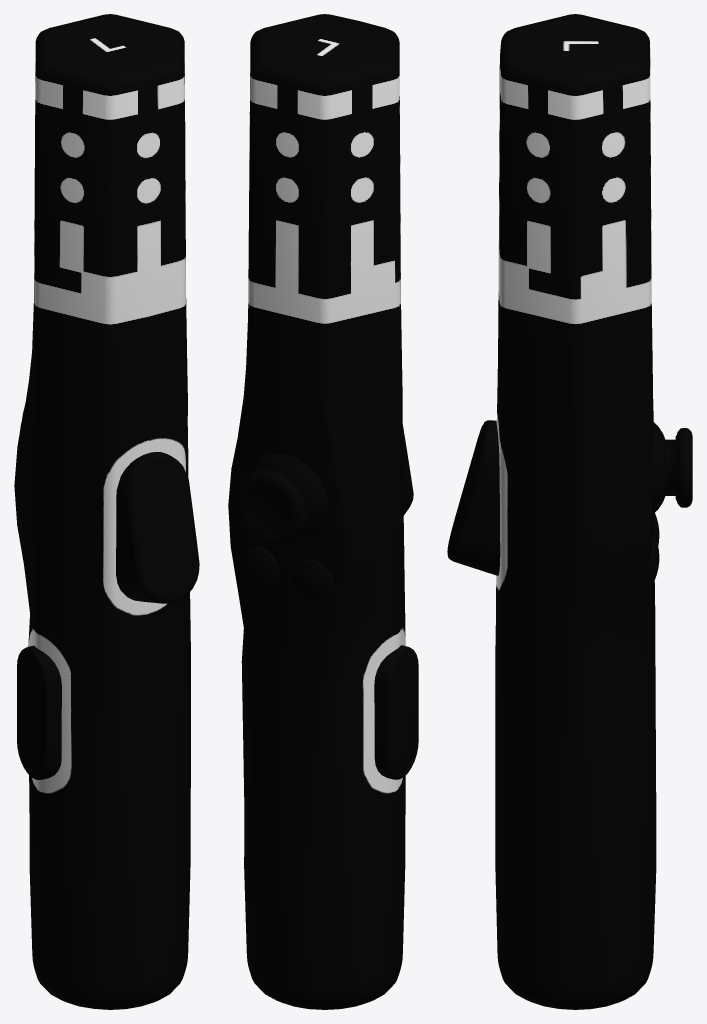
File: Zapbox_Controller_Left.fbx
3 renders of one model, left to right at view 1: azimuth 30°, elevation 25°; view 2: azimuth 150°, elevation 25°; view 3: azimuth 270°, elevation 25°, orthographic.
Parts seen in each view (by area): view 1: Left_Control_Body, Left_Control_Button_Trigger, Left_Control_Button_Grip; view 2: Left_Control_Body, Left_Control_JoyStick, Left_Control_Button_Grip, Left_Control_Button_B, Left_Control_Button_A, Left_Control_Button_Trigger; view 3: Left_Control_Body, Left_Control_Button_Trigger, Left_Control_JoyStick.
Boxes of the visible parts, x1,y1,x2,y2 form: Left_Control_Body: (14,14,190,1009); Left_Control_Button_Trigger: (116,452,199,603); Left_Control_Button_Grip: (17,645,61,779); Left_Control_Body: (228,14,405,1009); Left_Control_JoyStick: (234,453,327,545); Left_Control_Button_Grip: (374,645,418,779); Left_Control_Button_B: (291,559,333,602); Left_Control_Button_A: (240,546,279,590); Left_Control_Button_Trigger: (402,425,413,515); Left_Control_Body: (495,14,656,1009); Left_Control_Button_Trigger: (447,420,500,575); Left_Control_JoyStick: (652,422,692,513).
Bounding box in the file's own units: 348 × 2027 × 478.
1 material, 1 textured.
